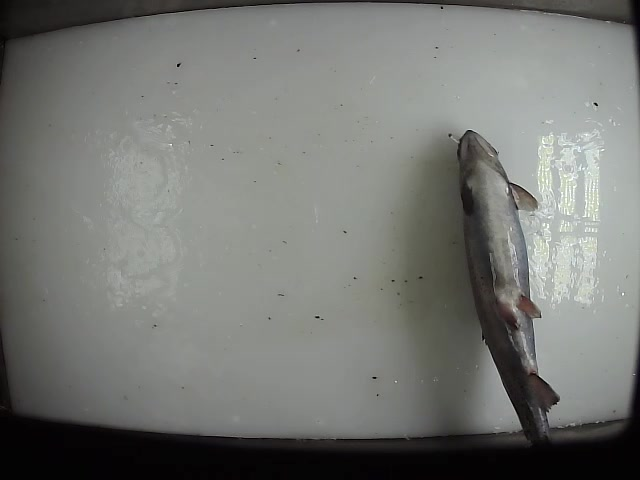Fish: (455, 131, 560, 449)
